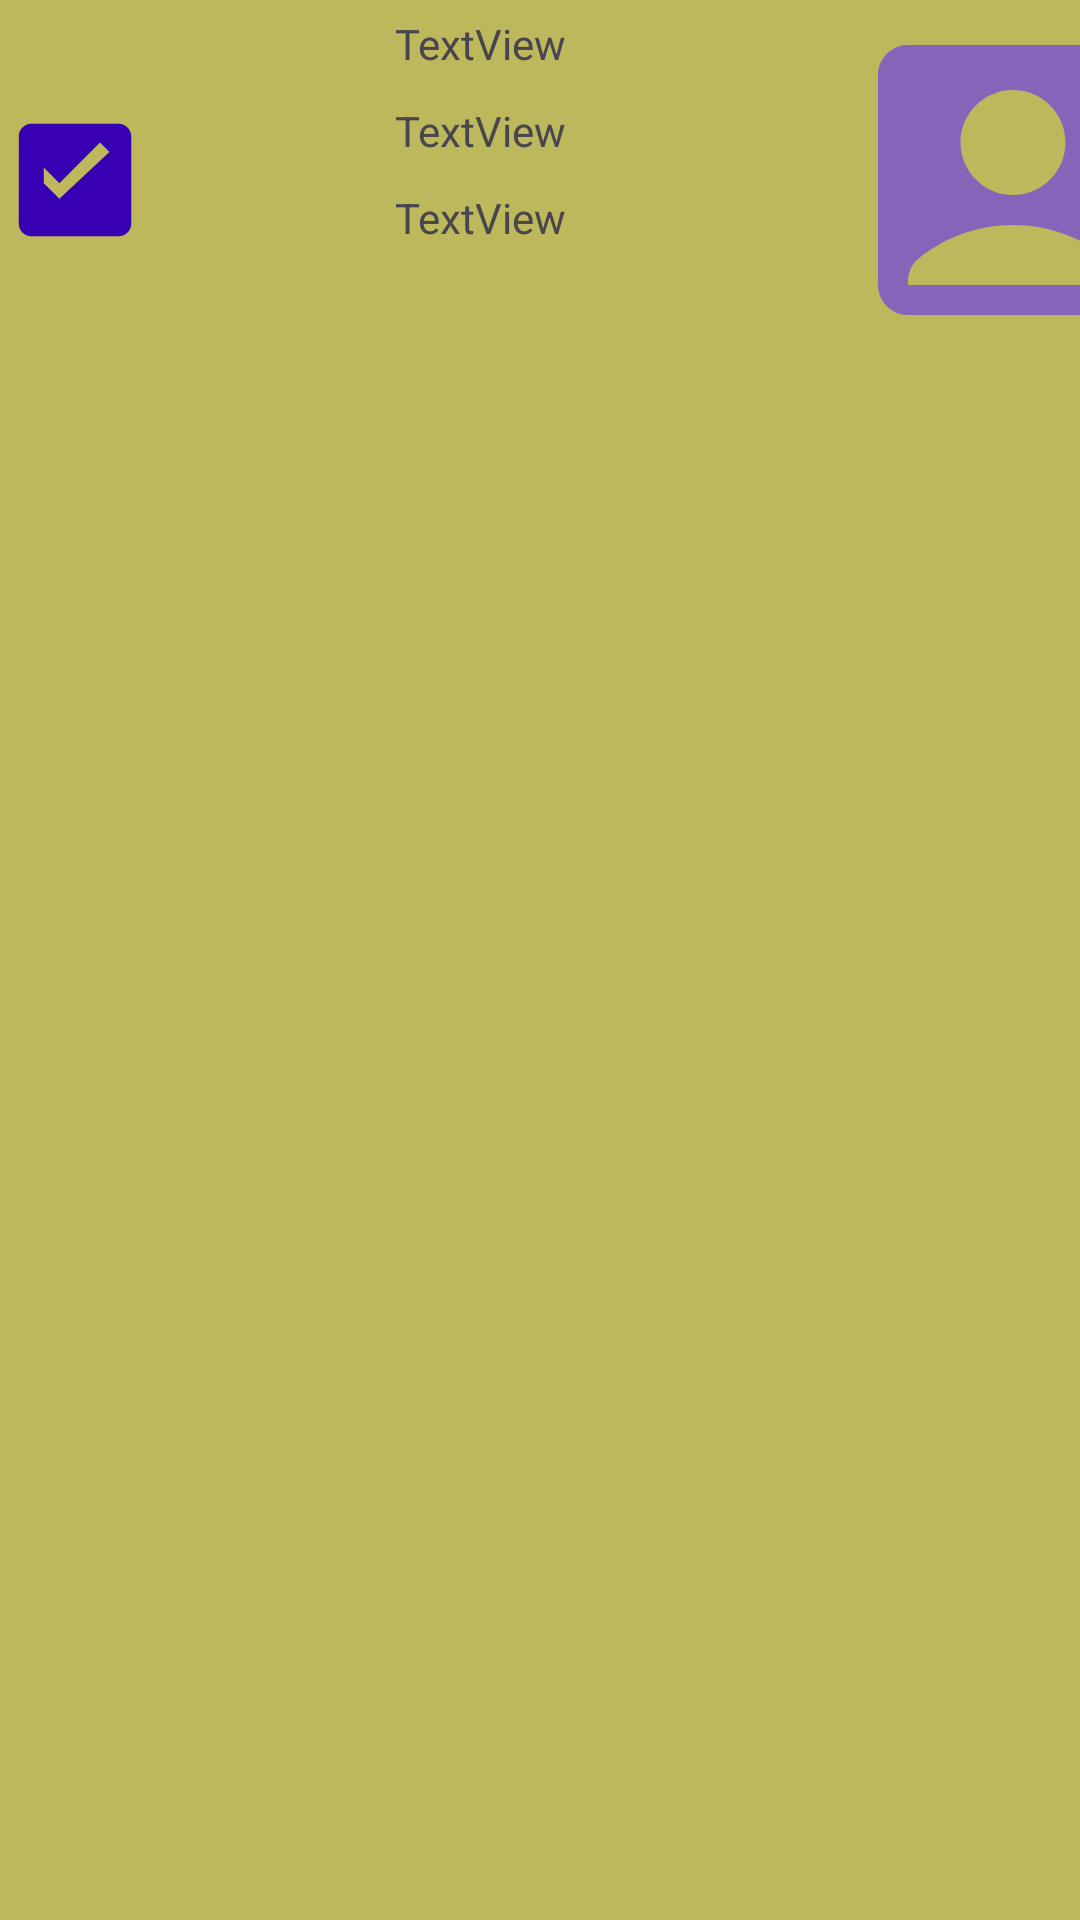

Icon bounding boxes for this 1080 × 1920 phone screenshot, format (x1, y1, x2, y2):
check box: (18, 123, 132, 237)
